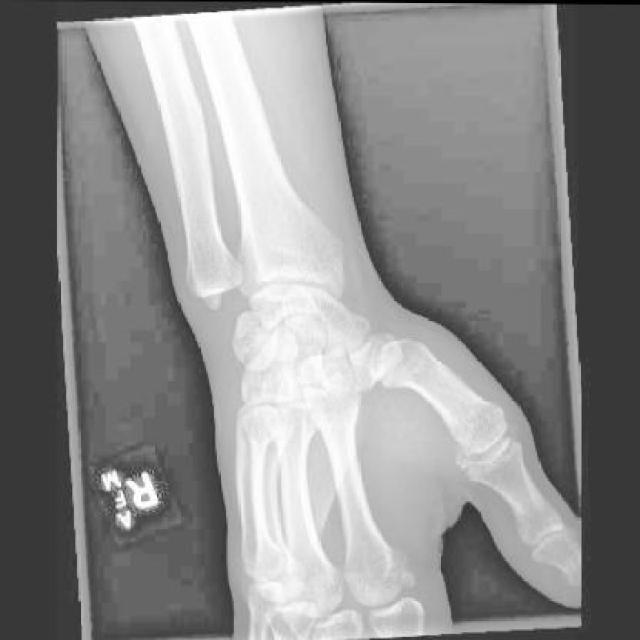Fracture: (230, 313, 270, 361)
